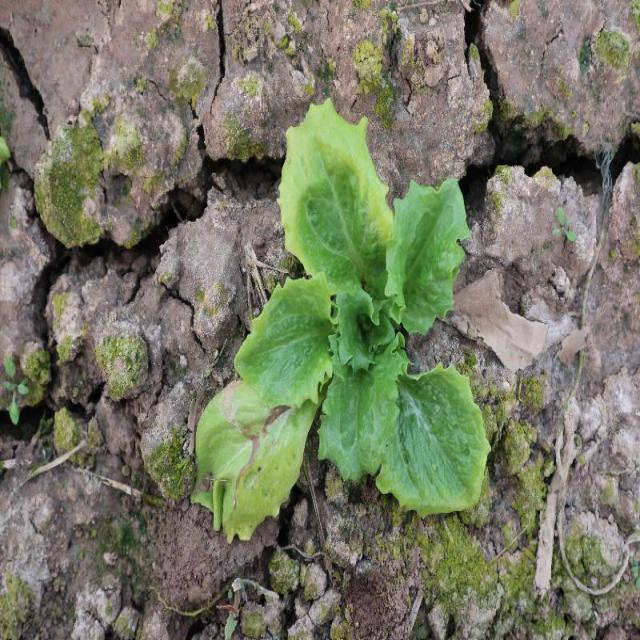crop: (193, 104, 491, 544)
